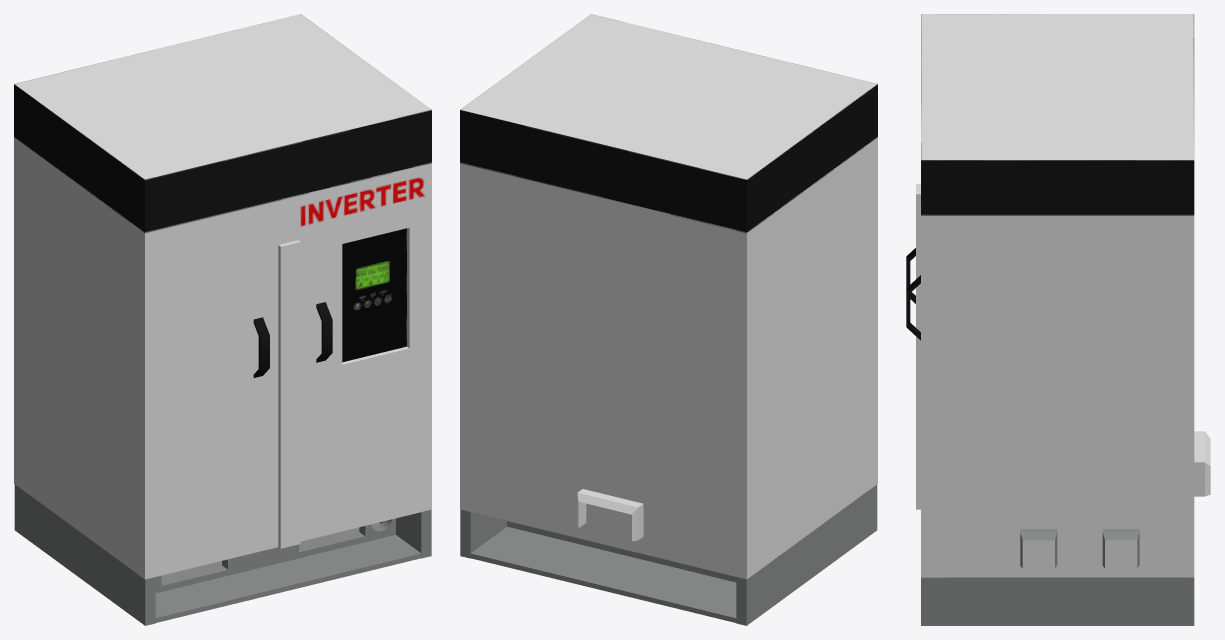
Rendered from Inverter.fbx.
3 views of the same model, side by side, from view 1: azimuth 30°, elevation 25°; view 2: azimuth 150°, elevation 25°; view 3: azimuth 270°, elevation 25° (orthographic). The views are drawn at different scales.
Parts seen in each view (by area): view 1: Inverter; view 2: Inverter; view 3: Inverter.
Part boxes in pixels (<box>): Inverter: <box>14,14,431,625</box>; Inverter: <box>460,14,877,625</box>; Inverter: <box>906,14,1210,625</box>.
Size of the model in its own units: 158 by 227 by 134.
1 material, 1 textured.
